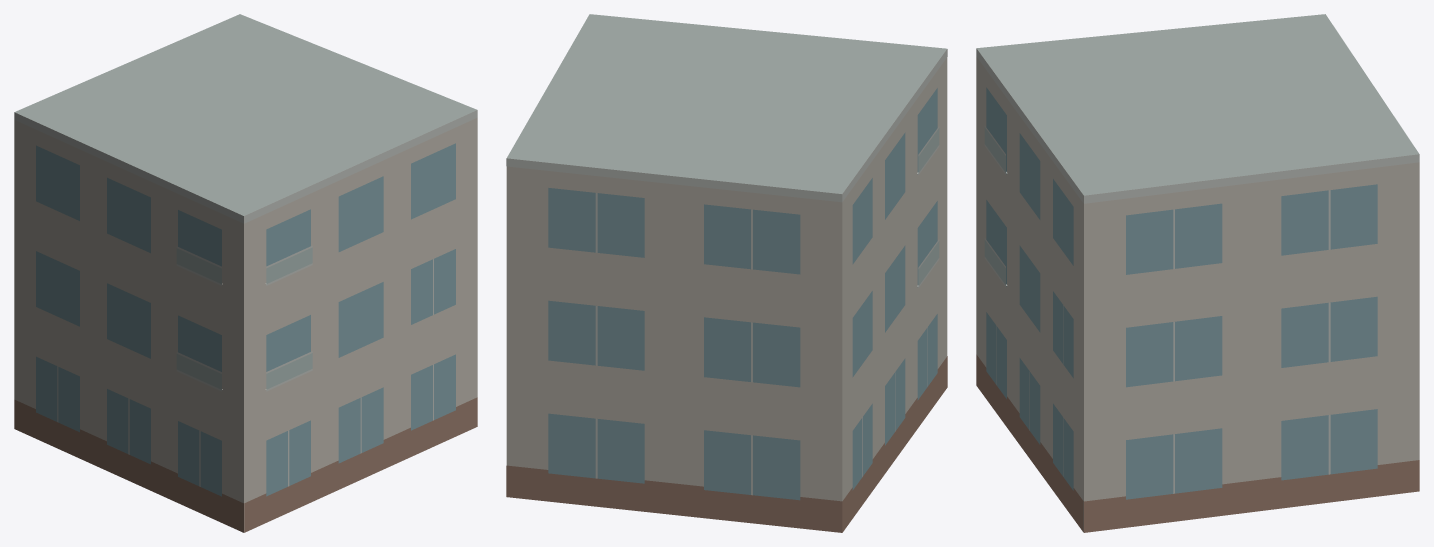
Rendered from survey-upis-32845643.glb.
The picture shows the model from 3 angles, left to right: view 1: azimuth 30°, elevation 25°; view 2: azimuth 150°, elevation 25°; view 3: azimuth 270°, elevation 25°; orthographic projection. The views are drawn at different scales.
Parts seen in each view (by area): view 1: survey-upis-32845643.tmp; view 2: survey-upis-32845643.tmp; view 3: survey-upis-32845643.tmp.
Boxes of the visible parts, x1,y1,x2,y2 form: survey-upis-32845643.tmp: [14, 14, 477, 532]; survey-upis-32845643.tmp: [506, 14, 947, 532]; survey-upis-32845643.tmp: [976, 14, 1419, 532].
Size of the model in its own units: 11.74 by 10.15 by 12.1.
